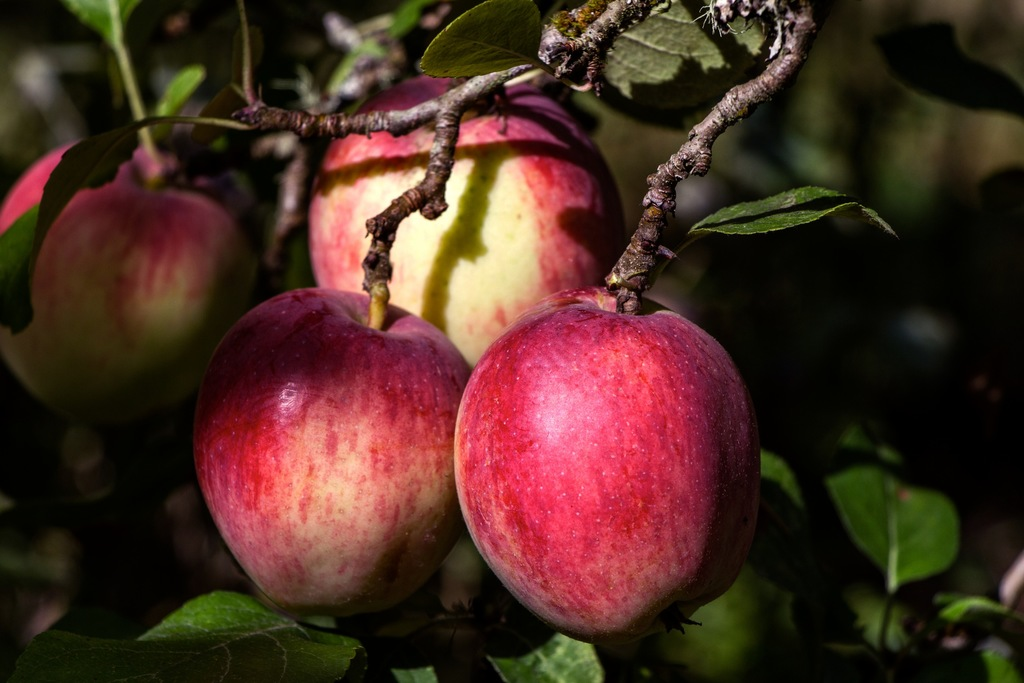Apple: (441, 272, 755, 640), (305, 72, 632, 368), (191, 283, 480, 617), (0, 142, 271, 426)
